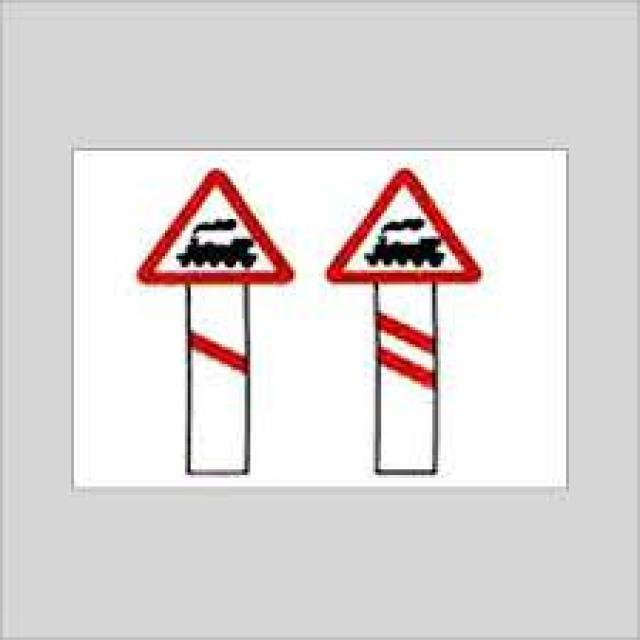unguarded level crossing: (317, 162, 488, 292)
